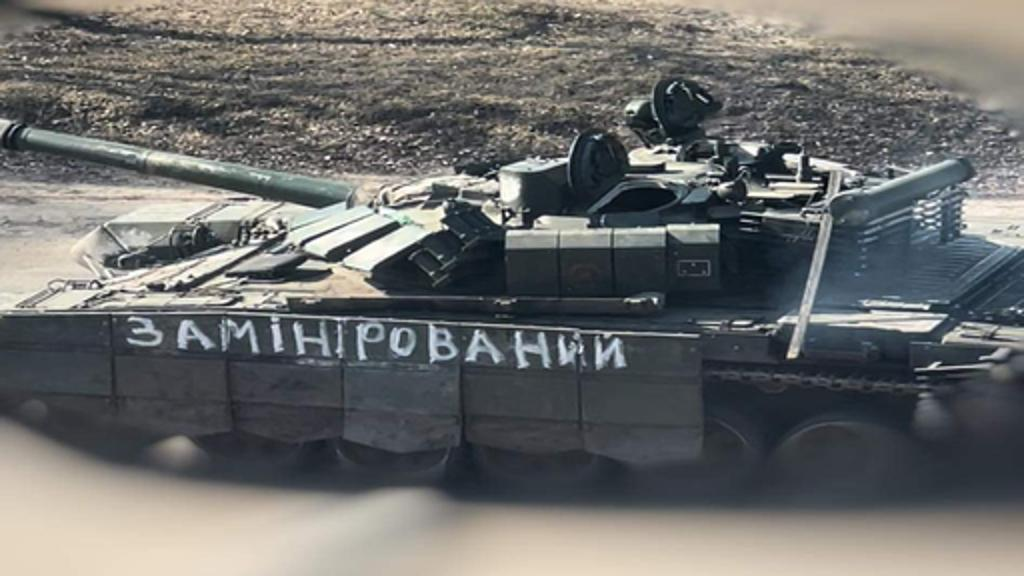TANK: (0, 74, 1022, 502)
